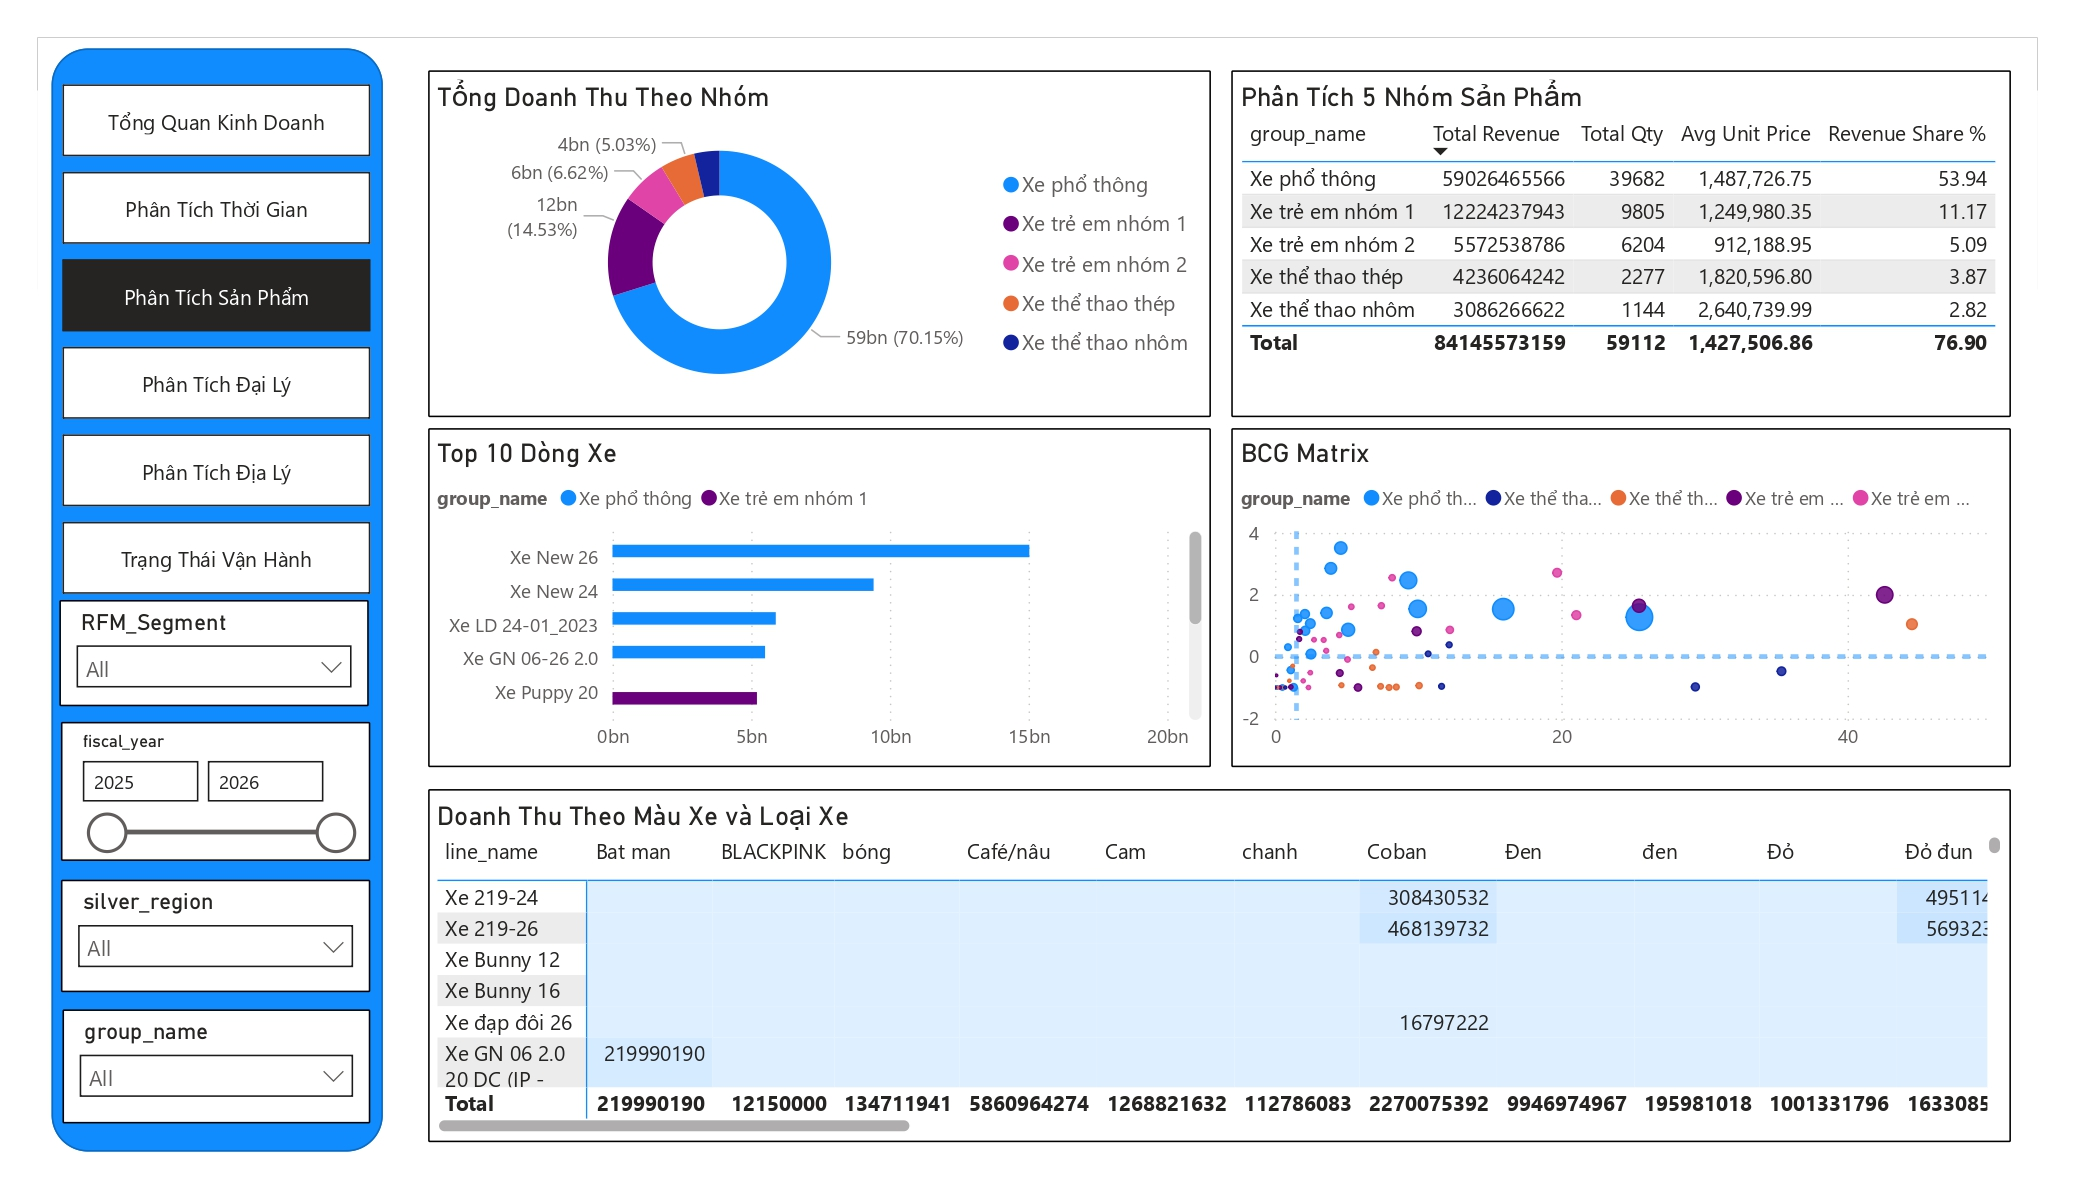

The page's visual inventory and layout, read from the dashboard file:
{"tool":"powerbi","page":{"name":"Phân Tích Sản Phẩm","canvas":[1280,720],"ordinal":2},"visuals":[{"type":"donutChart","title":"Tổng Doanh Thu Theo Nhóm","fields":{"Y":["_measures.Total Revenue"],"Category":["gold_fact_sales.group_name"]},"box":[250,21.4,501.4,221.4],"z":0},{"type":"tableEx","title":"Phân Tích 5 Nhóm Sản Phẩm","fields":{"Values":["gold_fact_sales.group_name","_measures.Total Revenue","_measures.Total Qty","_measures.Avg Unit Price","_measures.Revenue Share %"]},"box":[764.3,21.4,498.6,221.4],"z":1000},{"type":"clusteredBarChart","title":"Top 10 Dòng Xe","fields":{"Category":["gold_fact_sales.line_name"],"Y":["_measures.Total Revenue"],"Series":["gold_fact_sales.group_name"]},"box":[250,250,501.4,217.1],"z":2000},{"type":"pivotTable","title":"Doanh Thu Theo Màu Xe và Loại Xe","fields":{"Rows":["gold_fact_sales.line_name"],"Columns":["gold_fact_sales.color"],"Values":["_measures.Total Revenue"]},"box":[250,481.4,1012.9,225.7],"z":3000},{"type":"scatterChart","title":"BCG Matrix","fields":{"X":["_measures.Market_Share_Pct"],"Y":["_measures.Line_YoY_Growth"],"Size":["_measures.Total Revenue"],"Series":["gold_fact_sales.group_name"],"Category":["gold_fact_sales.line_name"]},"box":[764.3,250,498.6,217.1],"z":4000},{"type":"shape","box":[8.6,7.1,212.9,705.7],"z":5000},{"type":"slicer","fields":{"Values":["gold_fact_sales.silver_region"]},"box":[15.4,538.6,197.1,72.9],"z":6000},{"type":"slicer","fields":{"Values":["gold_fact_sales.group_name"]},"box":[15.8,622,197.1,72.9],"z":7000},{"type":"slicer","fields":{"Values":["gold_fact_sales.fiscal_year"]},"box":[15,438,198,89],"z":8000},{"type":"slicer","fields":{"Values":["RFM_Table.RFM_Segment"]},"box":[14,360,198,68],"z":9000},{"type":"pageNavigator","box":[15.8,30,196.7,330],"z":10000}]}

Visuals, with their boxes on the page's 1280x720 design canvas (x1, y1, x2, y2). These are canvas units, not pixel positions in the 2075x1200 screenshot, which may show the page scaled, cropped or inside an application window:
"Tổng Doanh Thu Theo Nhóm" donutChart: detection(250, 21, 751, 243)
"Phân Tích 5 Nhóm Sản Phẩm" tableEx: detection(764, 21, 1263, 243)
"Top 10 Dòng Xe" clusteredBarChart: detection(250, 250, 751, 467)
"Doanh Thu Theo Màu Xe và Loại Xe" pivotTable: detection(250, 481, 1263, 707)
"BCG Matrix" scatterChart: detection(764, 250, 1263, 467)
shape: detection(9, 7, 222, 713)
slicer - gold_fact_sales.silver_region: detection(15, 539, 212, 612)
slicer - gold_fact_sales.group_name: detection(16, 622, 213, 695)
slicer - gold_fact_sales.fiscal_year: detection(15, 438, 213, 527)
slicer - RFM_Table.RFM_Segment: detection(14, 360, 212, 428)
pageNavigator: detection(16, 30, 212, 360)
